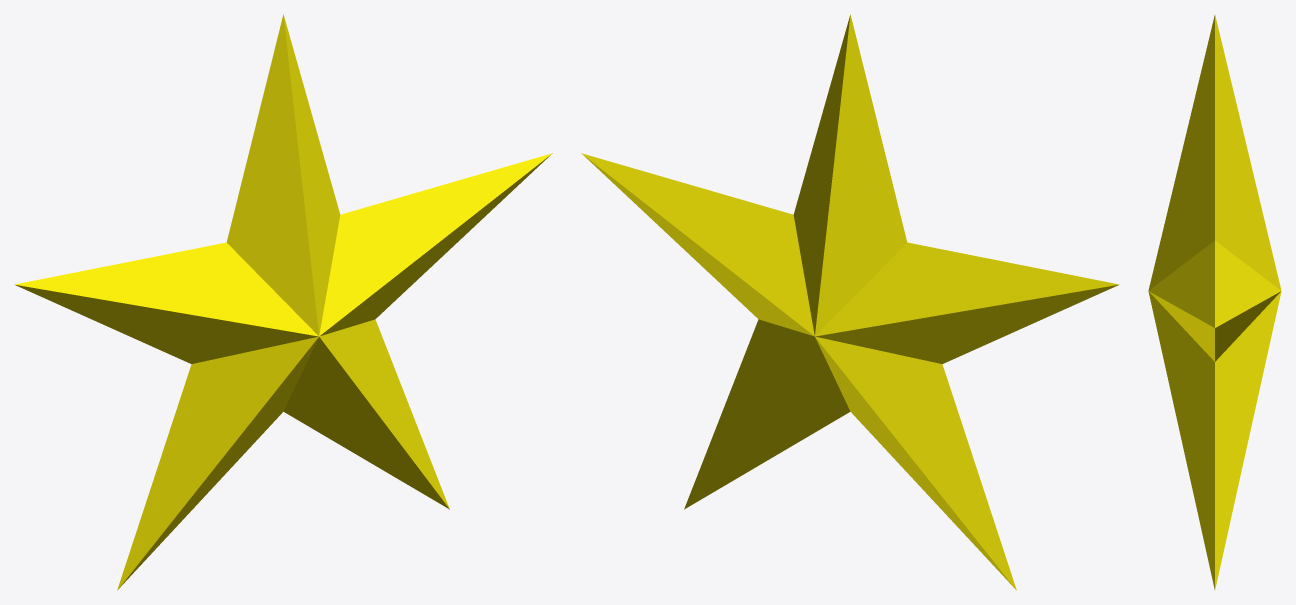
File: grab2.obj
3 views of the same model, side by side, from view 1: azimuth 30°, elevation 25°; view 2: azimuth 150°, elevation 25°; view 3: azimuth 270°, elevation 25° (orthographic). The views are drawn at different scales.
Visible parts, largest first — view 1: 円; view 2: 円; view 3: 円.
Part boxes in pixels (x1=…): 円: x1=14, y1=14, x2=552, y2=590; 円: x1=581, y1=14, x2=1119, y2=590; 円: x1=1148, y1=15, x2=1281, y2=589.
Bounding box in the file's own units: 1.9 × 1.81 × 0.4357.
1 material, 1 textured.
